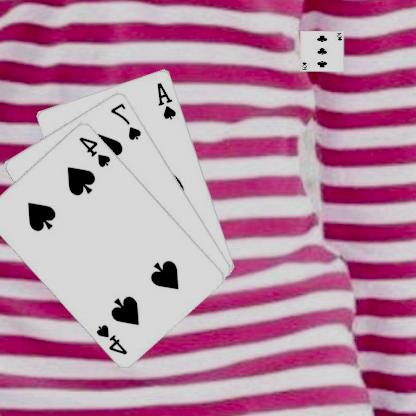4S: (78, 134, 113, 168), (95, 321, 130, 355)
7S: (110, 100, 144, 142)
AS: (156, 79, 180, 120)
